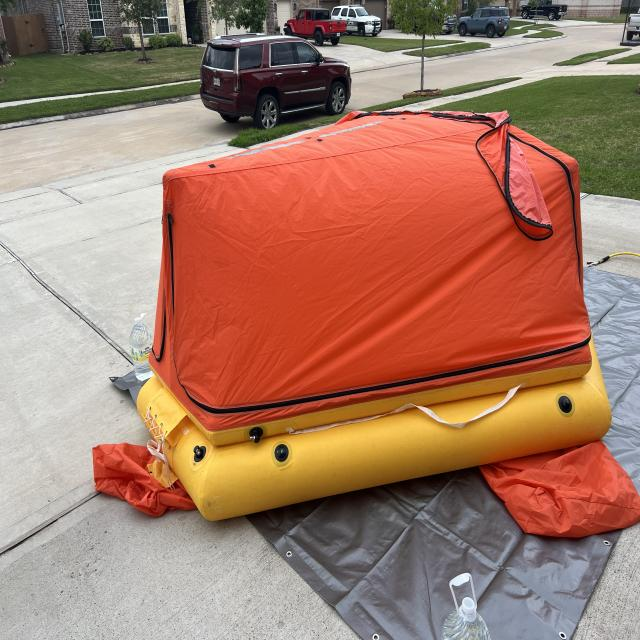Multi-person_life_raft: (91, 110, 640, 537)
